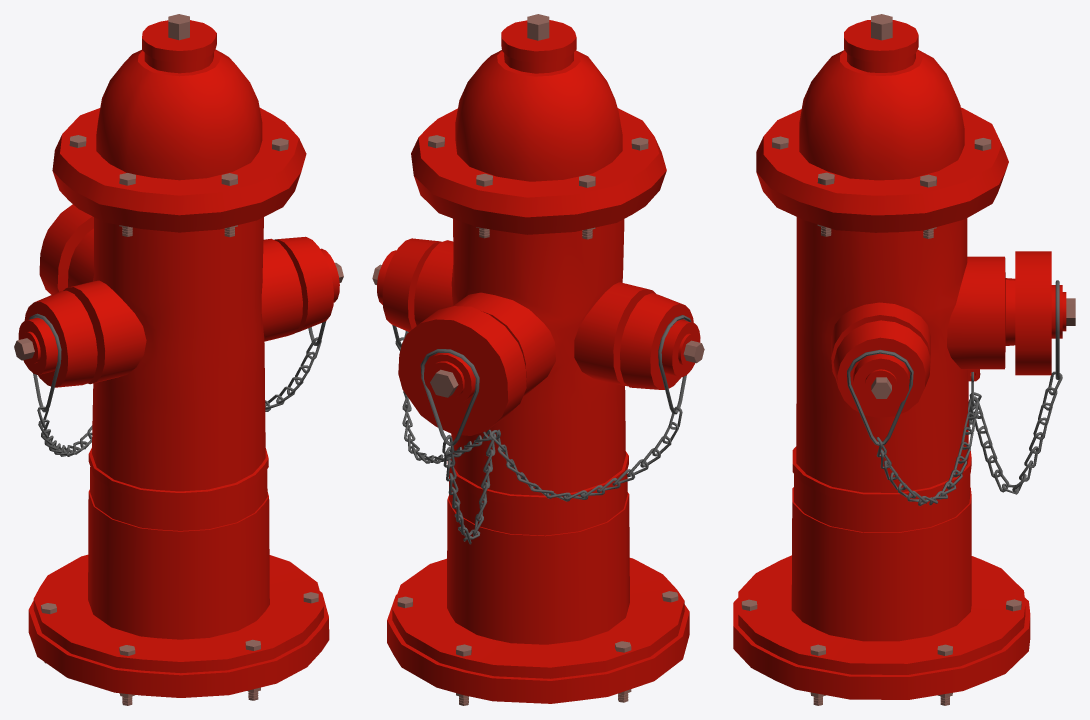
The model's file is Hydrant.fbx.
3 renders of one model, left to right at view 1: azimuth 30°, elevation 25°; view 2: azimuth 150°, elevation 25°; view 3: azimuth 270°, elevation 25°, orthographic.
Visible parts, largest first — view 1: Hydrant_low, Hydrantnot_low, Hydrantchain_low; view 2: Hydrant_low, Hydrantchain_low, Hydrantnot_low; view 3: Hydrant_low, Hydrantchain_low, Hydrantnot_low.
Part boxes in pixels (box(x1,y1,x2,y2)): Hydrant_low: box(18, 20, 339, 697); Hydrantnot_low: box(14, 14, 343, 705); Hydrantchain_low: box(29, 313, 326, 456); Hydrant_low: box(377, 20, 700, 703); Hydrantchain_low: box(392, 315, 691, 544); Hydrantnot_low: box(372, 14, 704, 705); Hydrant_low: box(733, 20, 1066, 699); Hydrantchain_low: box(847, 280, 1062, 505); Hydrantnot_low: box(741, 14, 1075, 705).
Size of the model in its own units: 27.82 by 52.7 by 25.74.
